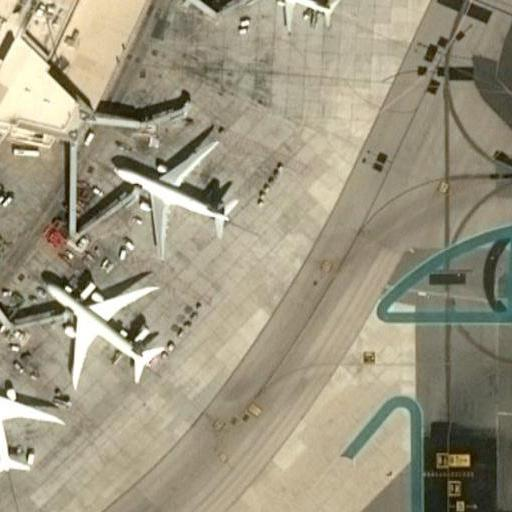Aircraft: (43, 268, 167, 383), (115, 146, 245, 251), (0, 357, 63, 479), (253, 0, 339, 29)
